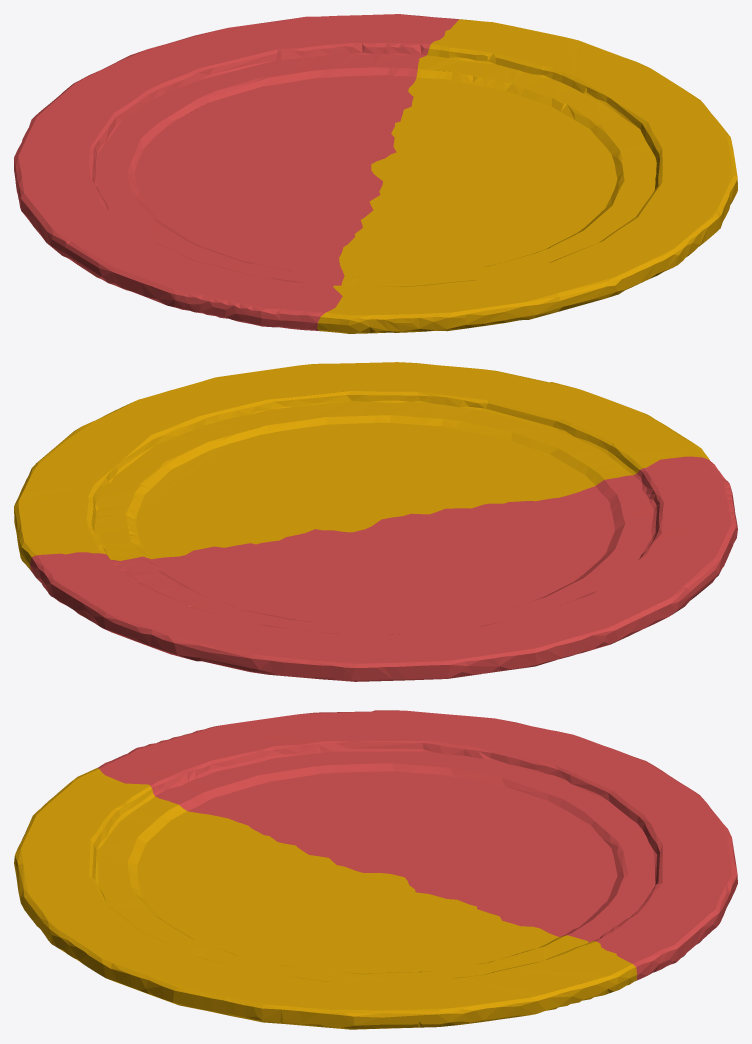
The model's file is mode_1_2pcs.glb.
3 views of the same model, one above another, from view 1: azimuth 30°, elevation 25°; view 2: azimuth 150°, elevation 25°; view 3: azimuth 270°, elevation 25° (orthographic).
Parts seen in each view (by area): view 1: piece_1.obj, piece_0.obj; view 2: piece_1.obj, piece_0.obj; view 3: piece_1.obj, piece_0.obj.
Boxes of the visible parts, box(x1,y1,x2,y2) form: piece_1.obj: box(14, 14, 459, 330); piece_0.obj: box(317, 19, 737, 333); piece_1.obj: box(30, 456, 737, 681); piece_0.obj: box(14, 362, 709, 570); piece_1.obj: box(97, 710, 737, 980); piece_0.obj: box(14, 768, 637, 1029).
Size of the model in its own units: 1 by 0.0277 by 0.9998.
